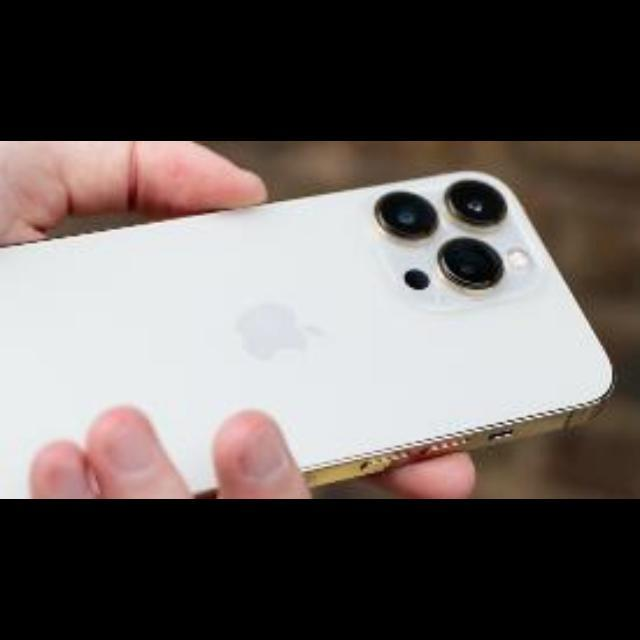Phone: (2, 169, 618, 499)
